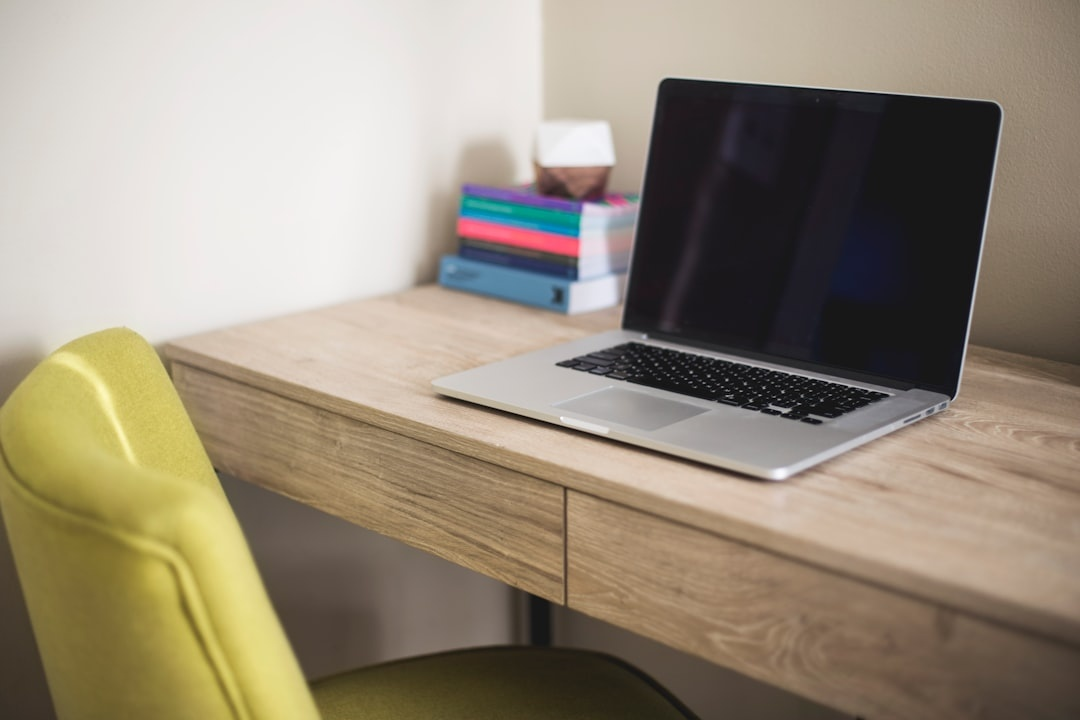laptop: (415, 67, 1025, 494)
